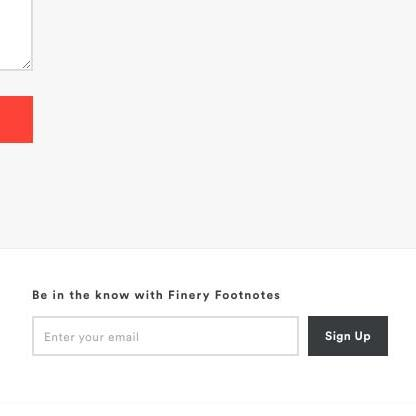button: (308, 315, 388, 357)
field: (31, 315, 299, 355)
